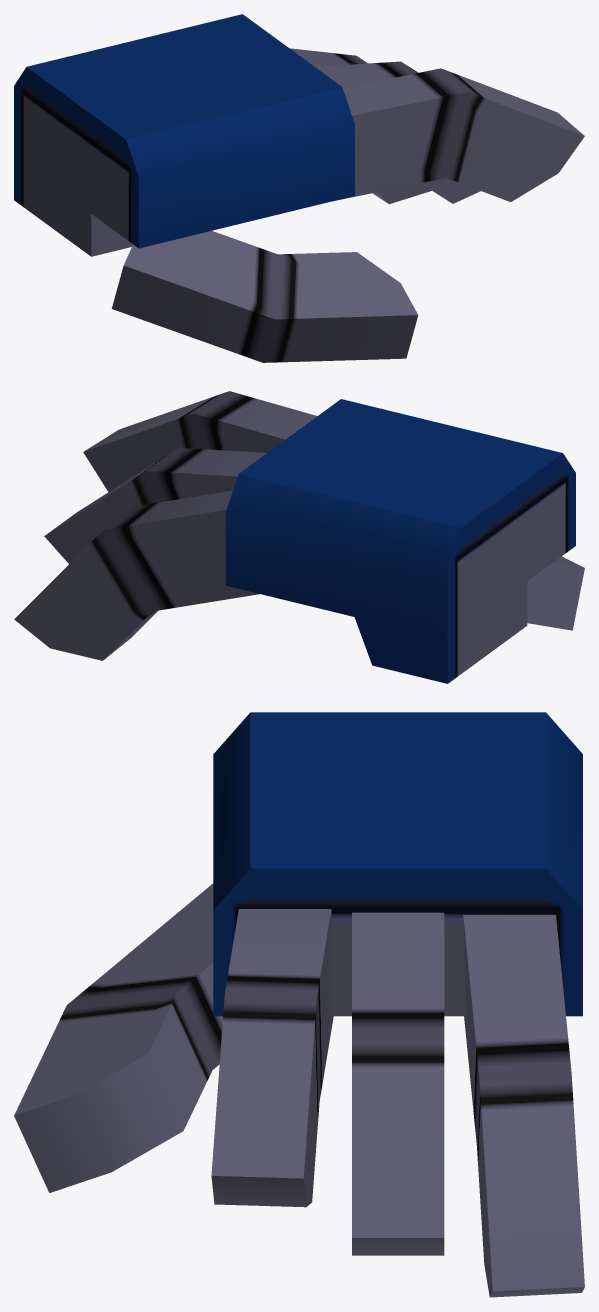
The picture shows the model from 3 angles, top to bottom: view 1: azimuth 30°, elevation 25°; view 2: azimuth 150°, elevation 25°; view 3: azimuth 270°, elevation 25°; orthographic projection. The views are drawn at different scales.
Visible parts, largest first — view 1: Joint_0_Object_0; view 2: Joint_0_Object_0; view 3: Joint_0_Object_0.
Boxes of the visible parts, left/top/right/bottom form: Joint_0_Object_0: left=14, top=14, right=584, bottom=362; Joint_0_Object_0: left=14, top=391, right=584, bottom=683; Joint_0_Object_0: left=14, top=712, right=584, bottom=1297.
Size of the model in its own units: 63.38 by 29 by 45.86.
1 material, 1 textured.
